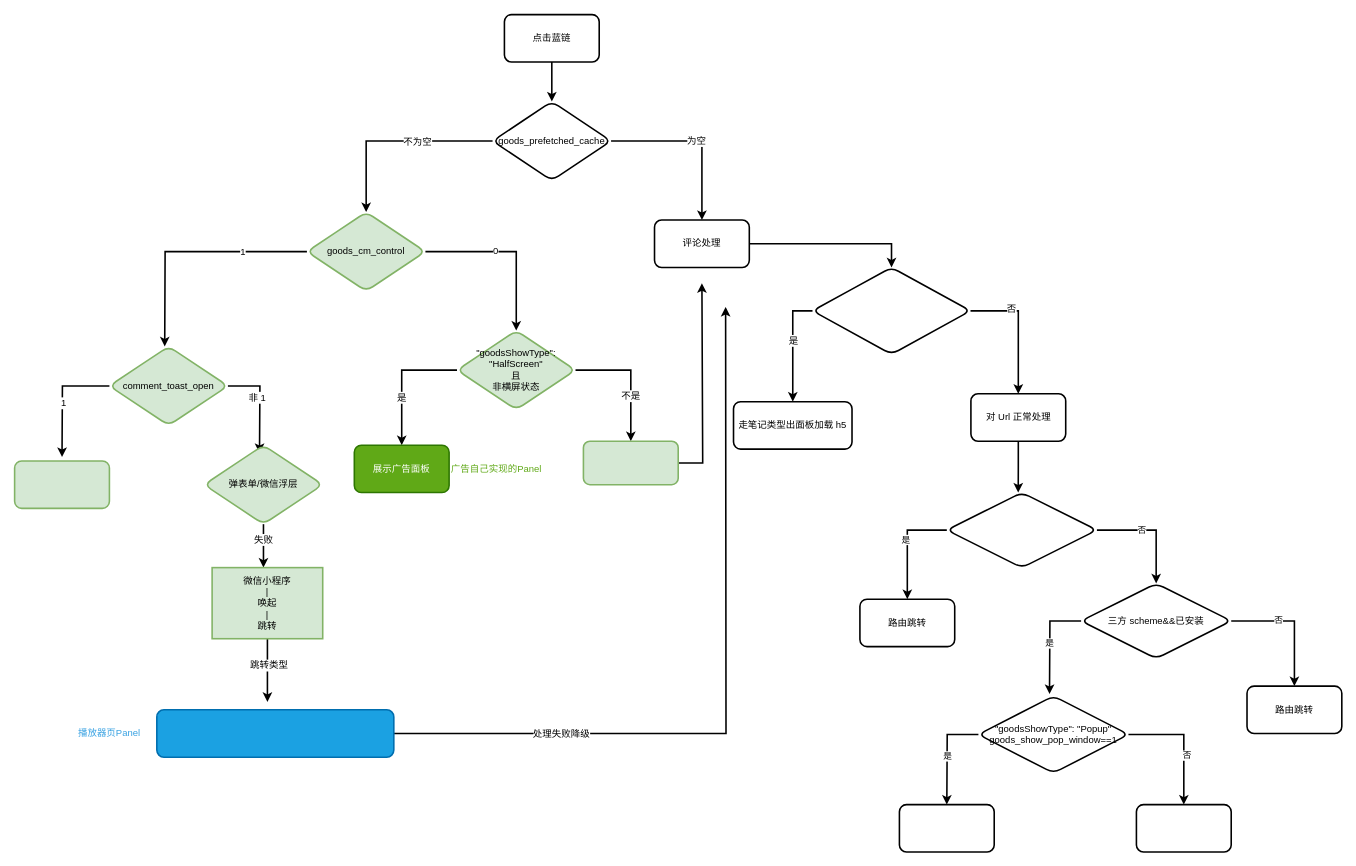
The diagram is 1356 pixels wide and 866 high, and some of its shapes have lost their labels. Here are the shapes that lost their labels. From the top down, the centre of each, then its label:
At (x=891, y=310): "isHalfScreen&&!webIsFullScreen".
At (x=630, y=462): "降级到评论业务处理".
At (x=61, y=484): "展示 Toast".
At (x=1021, y=529): "scheme 为 http/https/bilibili".
At (x=275, y=733): "展示广告评论面板 comment_interaction_style判断是否全屏 游戏面板 h5 面板".
At (x=946, y=827): "弹窗提示唤起".
At (x=1183, y=827): "直接唤起".
